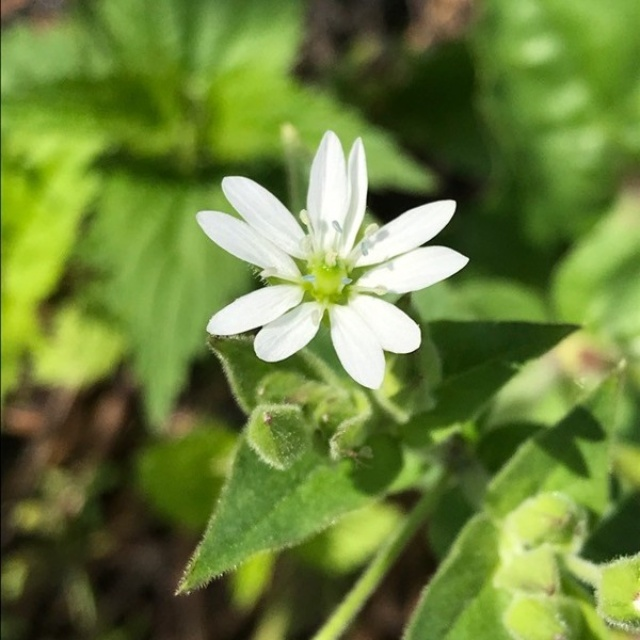obstacle: (162, 127, 591, 557)
